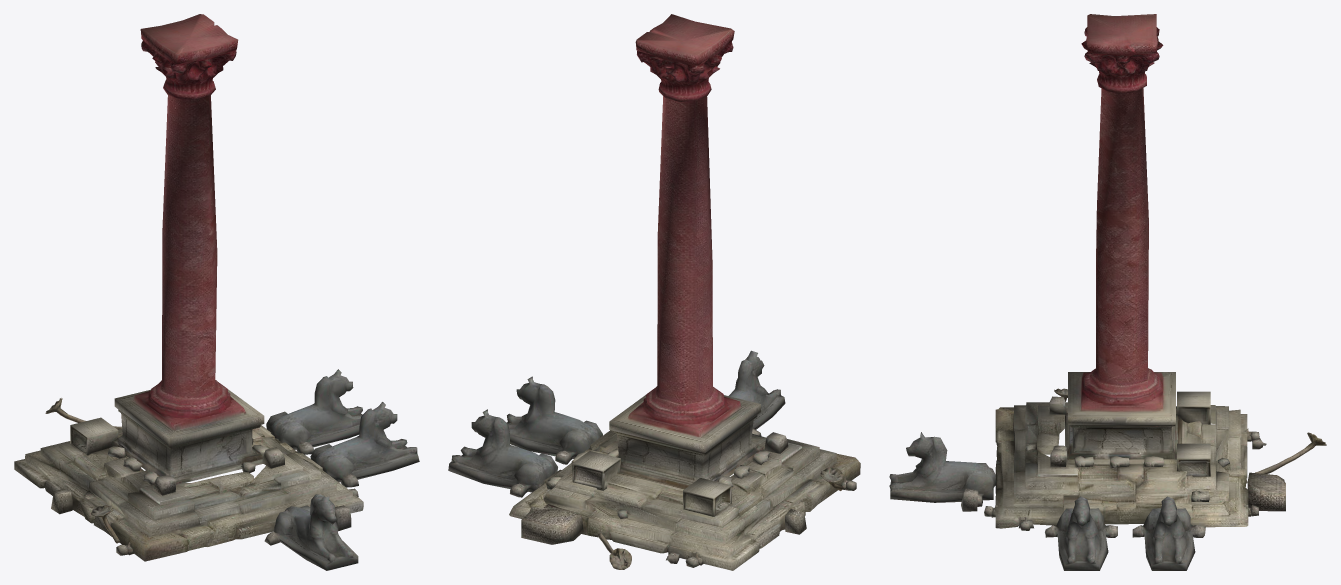
Rendered from pompey_pillar.glb.
The picture shows the model from 3 angles, left to right: view 1: azimuth 30°, elevation 25°; view 2: azimuth 150°, elevation 25°; view 3: azimuth 270°, elevation 25°; orthographic projection. The views are drawn at different scales.
Visible parts, largest first — view 1: tripo_node_3e51d4ff-98c6-47c7-ae0c-34ef8e8b6026; view 2: tripo_node_3e51d4ff-98c6-47c7-ae0c-34ef8e8b6026; view 3: tripo_node_3e51d4ff-98c6-47c7-ae0c-34ef8e8b6026.
Part boxes in pixels (left/top/right/bottom): tripo_node_3e51d4ff-98c6-47c7-ae0c-34ef8e8b6026: left=14, top=14, right=419, bottom=570; tripo_node_3e51d4ff-98c6-47c7-ae0c-34ef8e8b6026: left=448, top=14, right=860, bottom=570; tripo_node_3e51d4ff-98c6-47c7-ae0c-34ef8e8b6026: left=889, top=14, right=1326, bottom=570.
Size of the model in its own units: 0.752 by 0.998 by 0.8848.
Materials: 1 (1 with a texture image).
